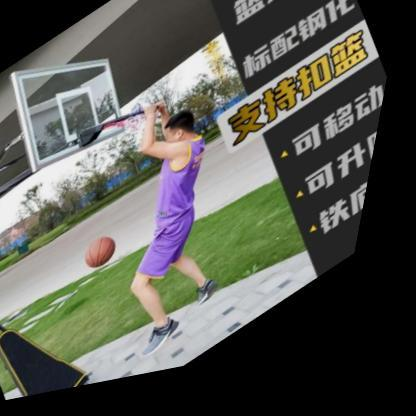basketball: (87, 233, 136, 282)
